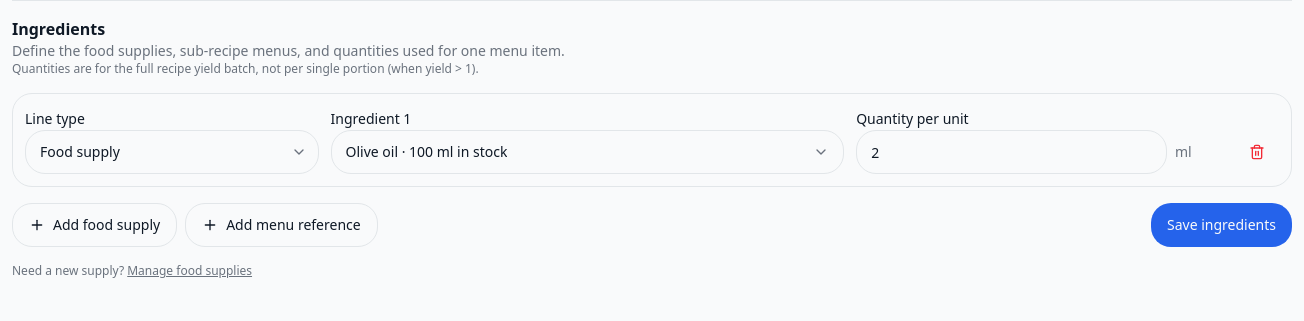
Test: MenuIngredientsForm › maps server validation errors onto rows
The width and height of the screenshot is (1304, 321).
Expected: the button named "Ingredient 1" is shown, 330,130 -> 844,174
Step 1. Click the button "Save ingredients" → (1222, 225), box 1151,203 -> 1292,247
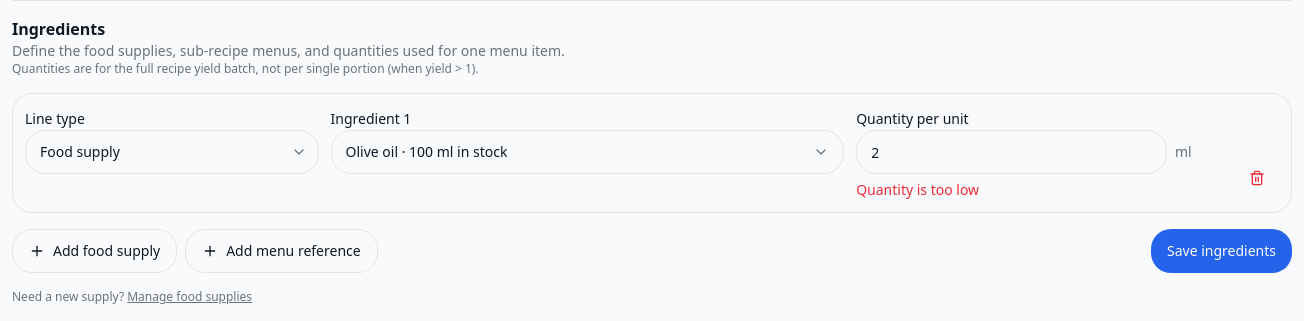
Expected: the text "Quantity is too low" is shown, 856,180 -> 979,199
